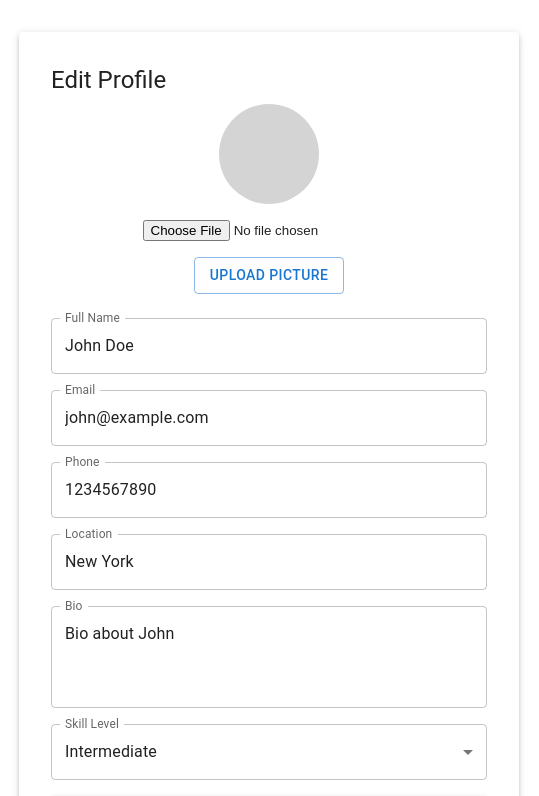
UserProfile Component › shows error if phone is invalid
This screenshot has width=539, height=796.
Replace the text in the field labelled "Phone" with "12345" at (269, 490), box [51, 462, 487, 518]
(page scrolled)
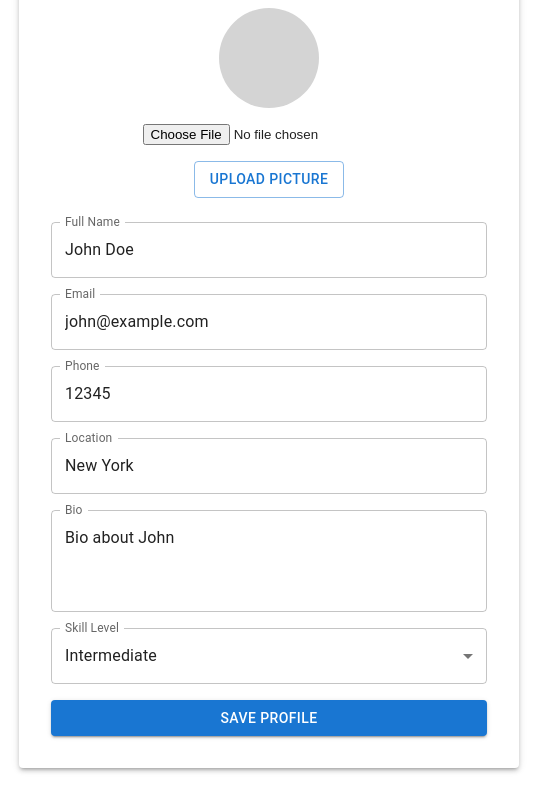
Submit the form from the button "Save Profile", box [51, 700, 487, 736]
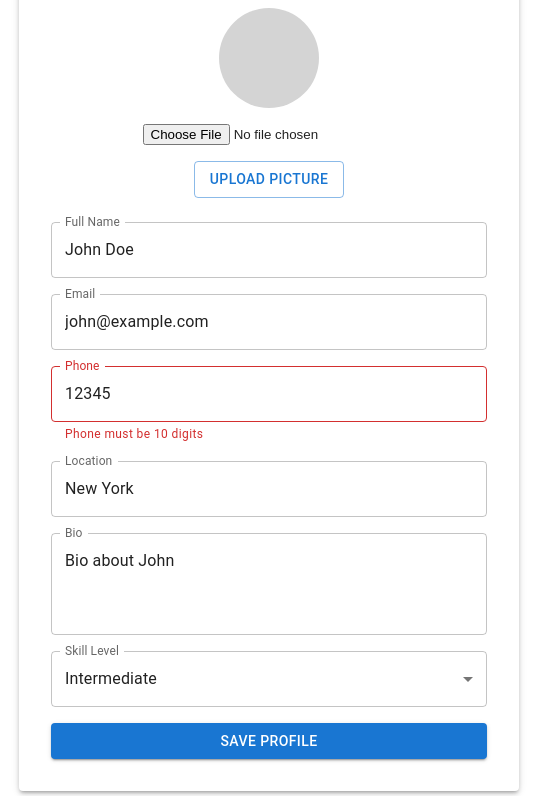
Expected: the text "Phone must be 10 digits" is shown, [65, 427, 203, 441]
